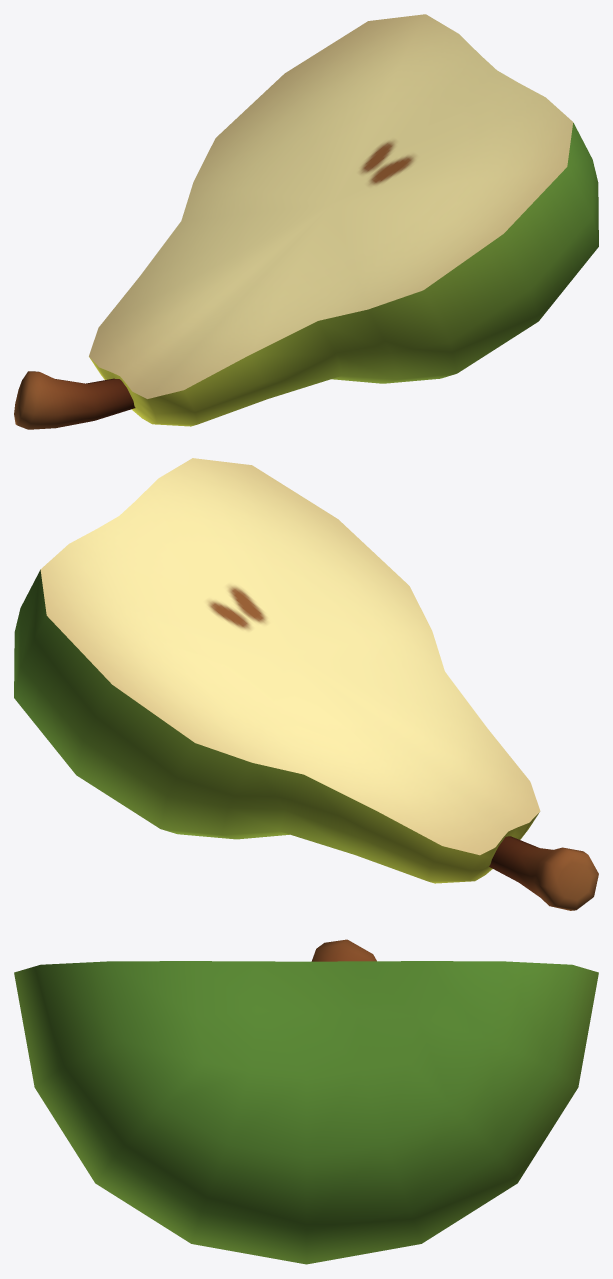
File: Pear_Slice_01.glb
The picture shows the model from 3 angles, top to bottom: view 1: azimuth 30°, elevation 25°; view 2: azimuth 150°, elevation 25°; view 3: azimuth 270°, elevation 25°; orthographic projection. The views are drawn at different scales.
Parts seen in each view (by area): view 1: Pear_Slice_01; view 2: Pear_Slice_01; view 3: Pear_Slice_01.
Part boxes in pixels (<box>): Pear_Slice_01: <box>14,14,598,429</box>; Pear_Slice_01: <box>14,458,598,910</box>; Pear_Slice_01: <box>14,939,598,1264</box>.
Size of the model in its own units: 0.4157 by 0.2036 by 0.296.
1 material, 1 textured.
